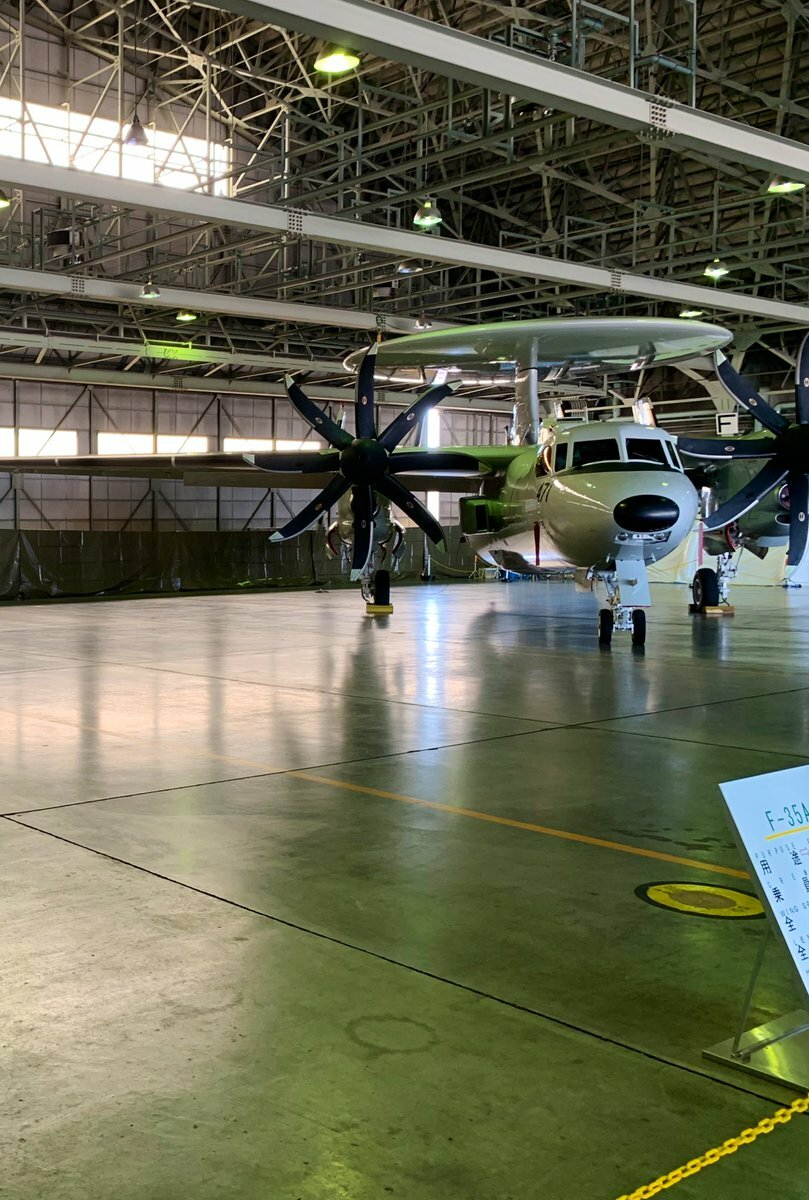E2: (1, 316, 809, 645)
